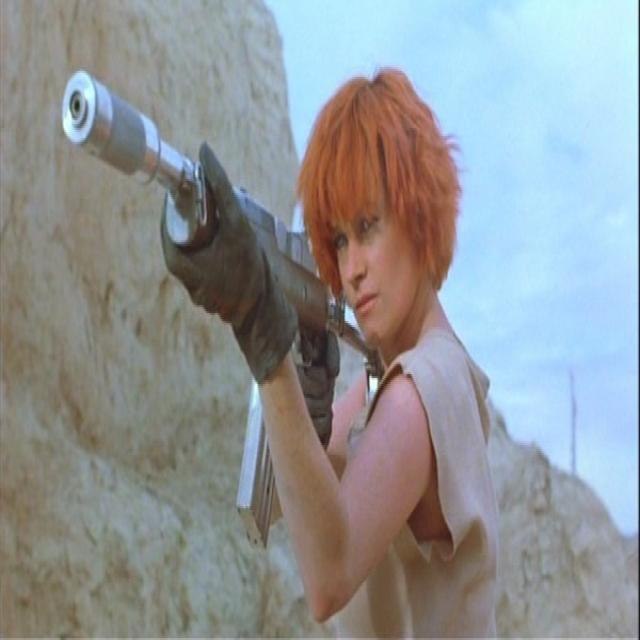rifle: (62, 69, 392, 556)
